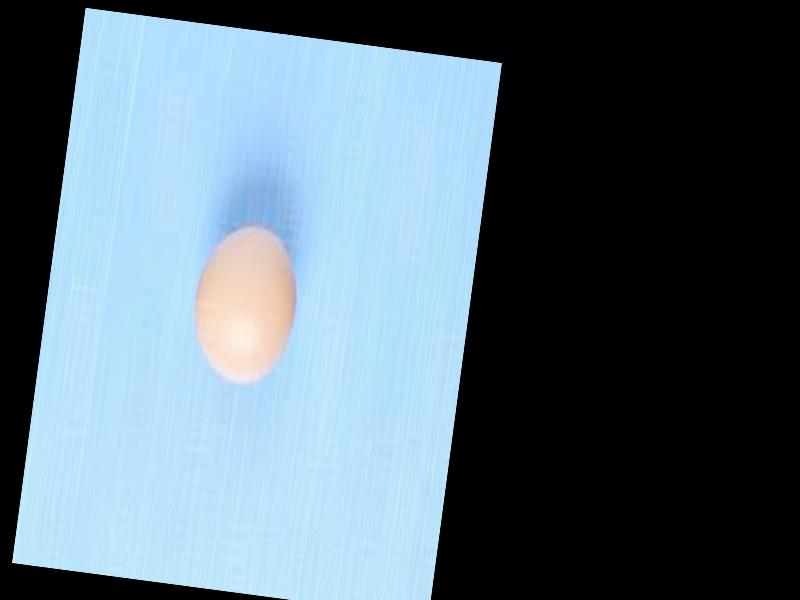Eggs: (185, 215, 305, 391)
